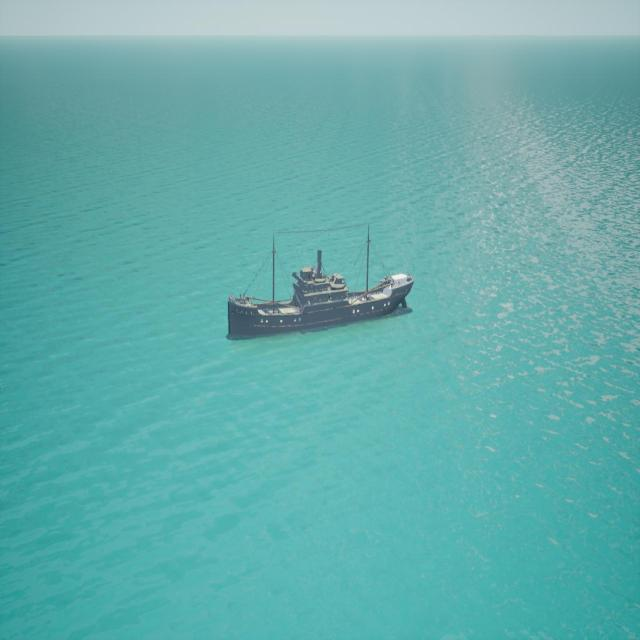fishing ship: (228, 230, 416, 341)
